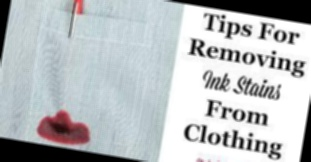ink: (35, 110, 94, 146)
